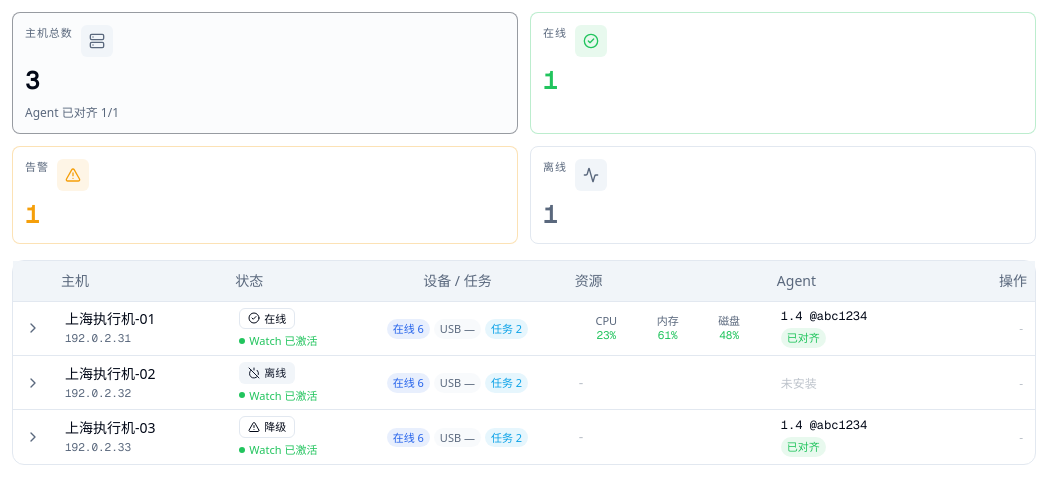
Test: ExpandableHostTable › filters hosts when summary status cards are clicked
Expected: the text "上海执行机-01" is shown, [65,309,156,328]
Expected: the text "上海执行机-02" is shown, [65,364,156,383]
Click the button with aria-label "筛选在线主机" at (591, 41), box [530,12,1036,134]
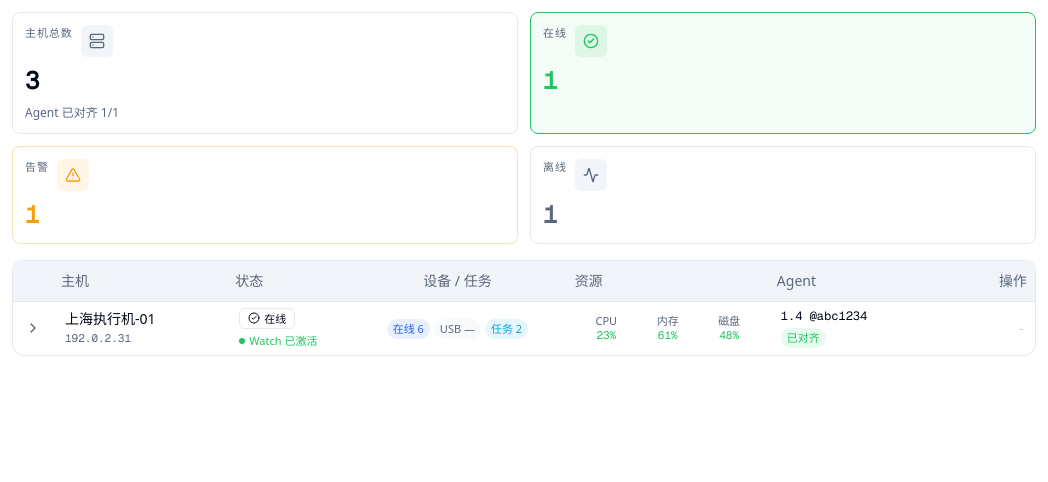
Expected: the text "上海执行机-01" is shown, [65,309,156,328]
Now the text "上海执行机-02" is gone
Now the text "上海执行机-03" is gone
Click the button with aria-label "筛选告警主机" at (73, 175), box [12,146,518,244]
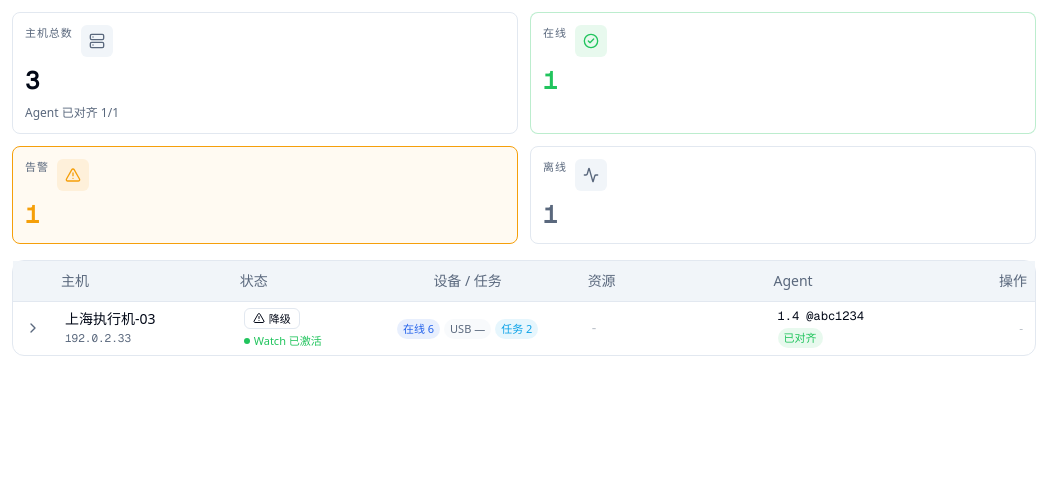
Now the text "上海执行机-01" is gone
Now the text "上海执行机-03" is shown, box [65,309,156,328]
Click the button with aria-label "筛选离线主机" at (591, 175), box [530,146,1036,244]
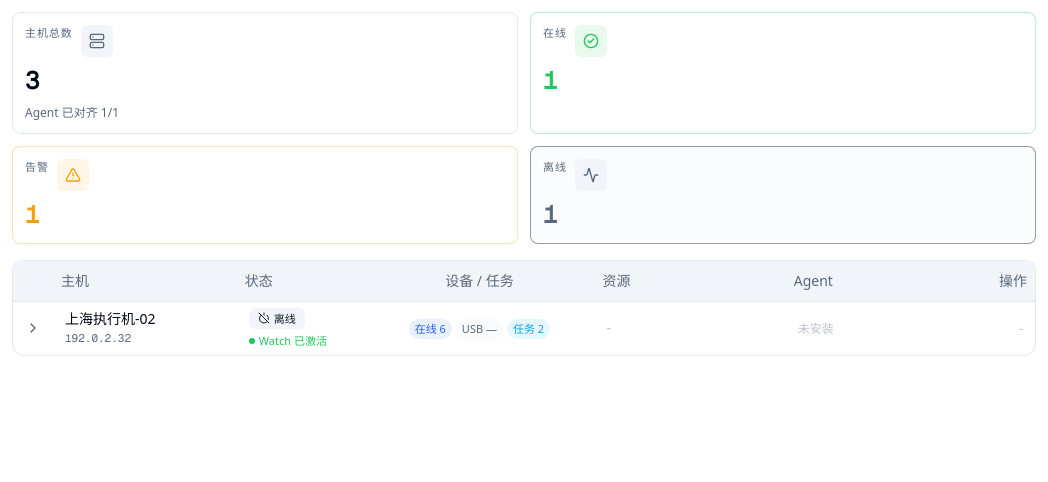
Now the text "上海执行机-02" is shown, box [65,309,156,328]
Now the text "上海执行机-03" is gone
Click the button with aria-label "筛选全部主机" at (49, 32), box [12,12,518,134]
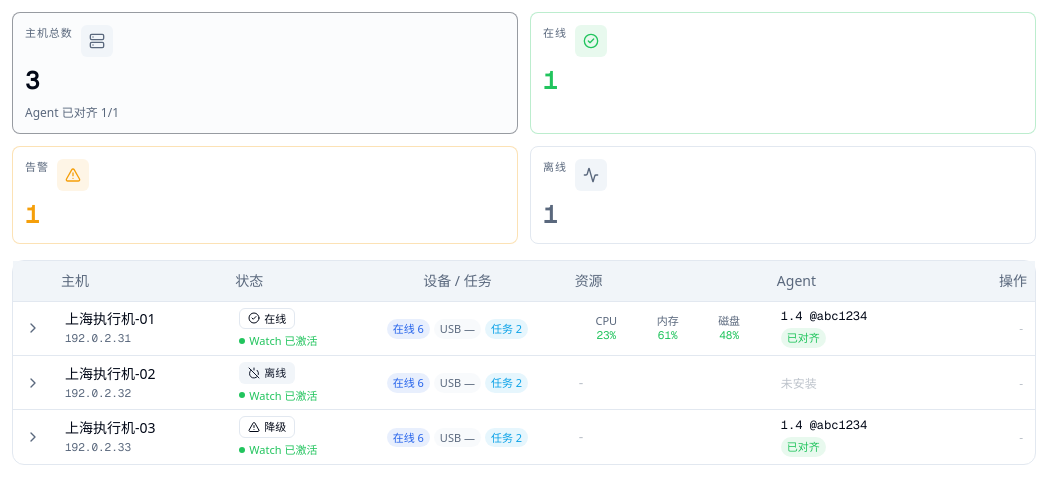
Now the text "上海执行机-02" is shown, box [65,364,156,383]
Now the text "上海执行机-01" is shown, box [65,309,156,328]
Now the text "上海执行机-03" is shown, box [65,418,156,437]
